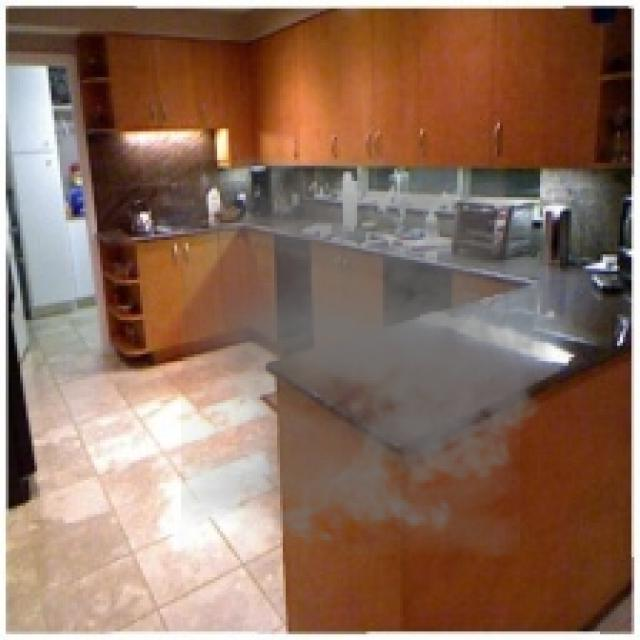Smoke: (180, 152, 589, 557)
